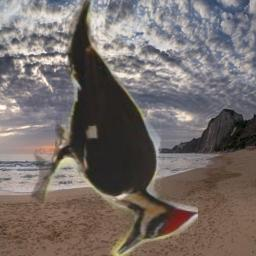Woodpecker: (30, 0, 198, 256)
